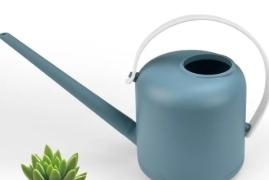ARROSOIR: (0, 2, 269, 180)
